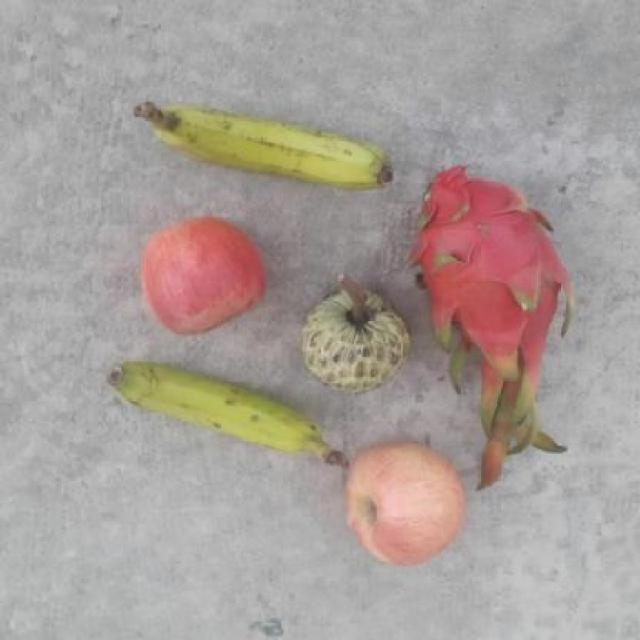apple: (135, 214, 276, 338), (341, 436, 464, 570)
banana: (134, 98, 398, 192), (108, 364, 346, 468)
dragon fruit: (410, 161, 572, 404)
sugar apple: (298, 276, 414, 395)
